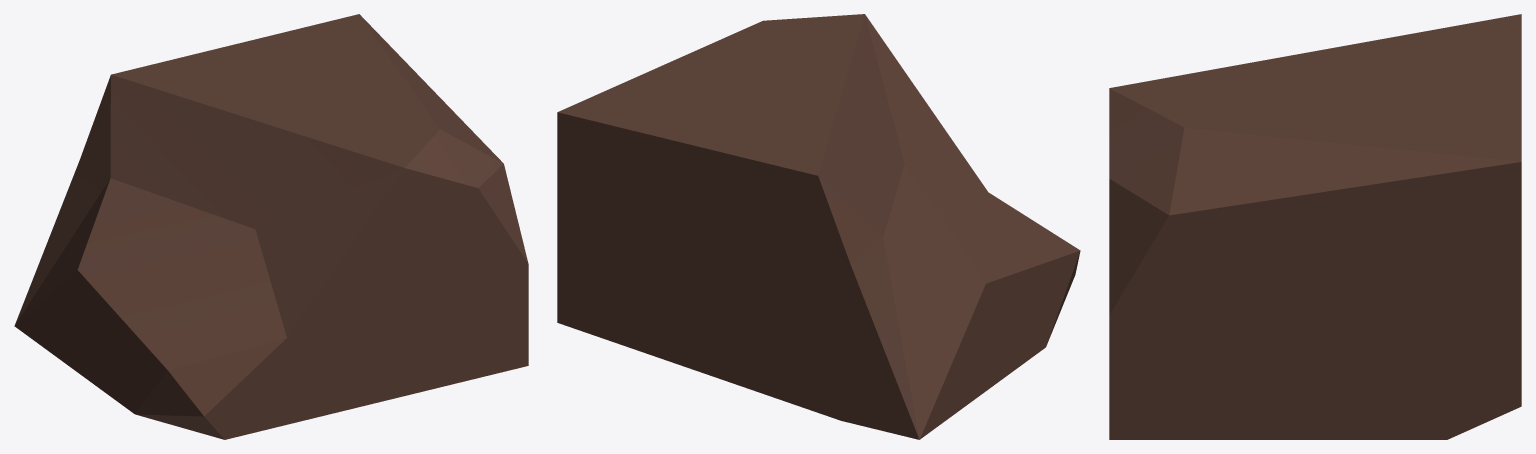
Rendered from SM_Prop_Brick_Half_01.obj.
3 renders of one model, left to right at view 1: azimuth 30°, elevation 25°; view 2: azimuth 150°, elevation 25°; view 3: azimuth 270°, elevation 25°, orthographic. The views are drawn at different scales.
Parts seen in each view (by area): view 1: SM_Prop_Brick_Half_01_0; view 2: SM_Prop_Brick_Half_01_0; view 3: SM_Prop_Brick_Half_01_0.
Part boxes in pixels (x1=…): SM_Prop_Brick_Half_01_0: x1=14, y1=14, x2=528, y2=439; SM_Prop_Brick_Half_01_0: x1=557, y1=14, x2=1080, y2=439; SM_Prop_Brick_Half_01_0: x1=1109, y1=14, x2=1521, y2=439.
Bounding box in the file's own units: 0.3033 × 0.1916 × 0.2576.
1 material, 1 textured.
